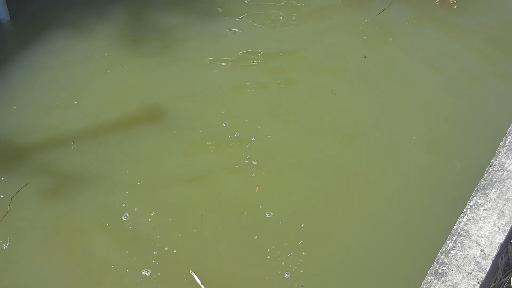twig: (0, 180, 37, 225), (200, 278, 230, 288)
